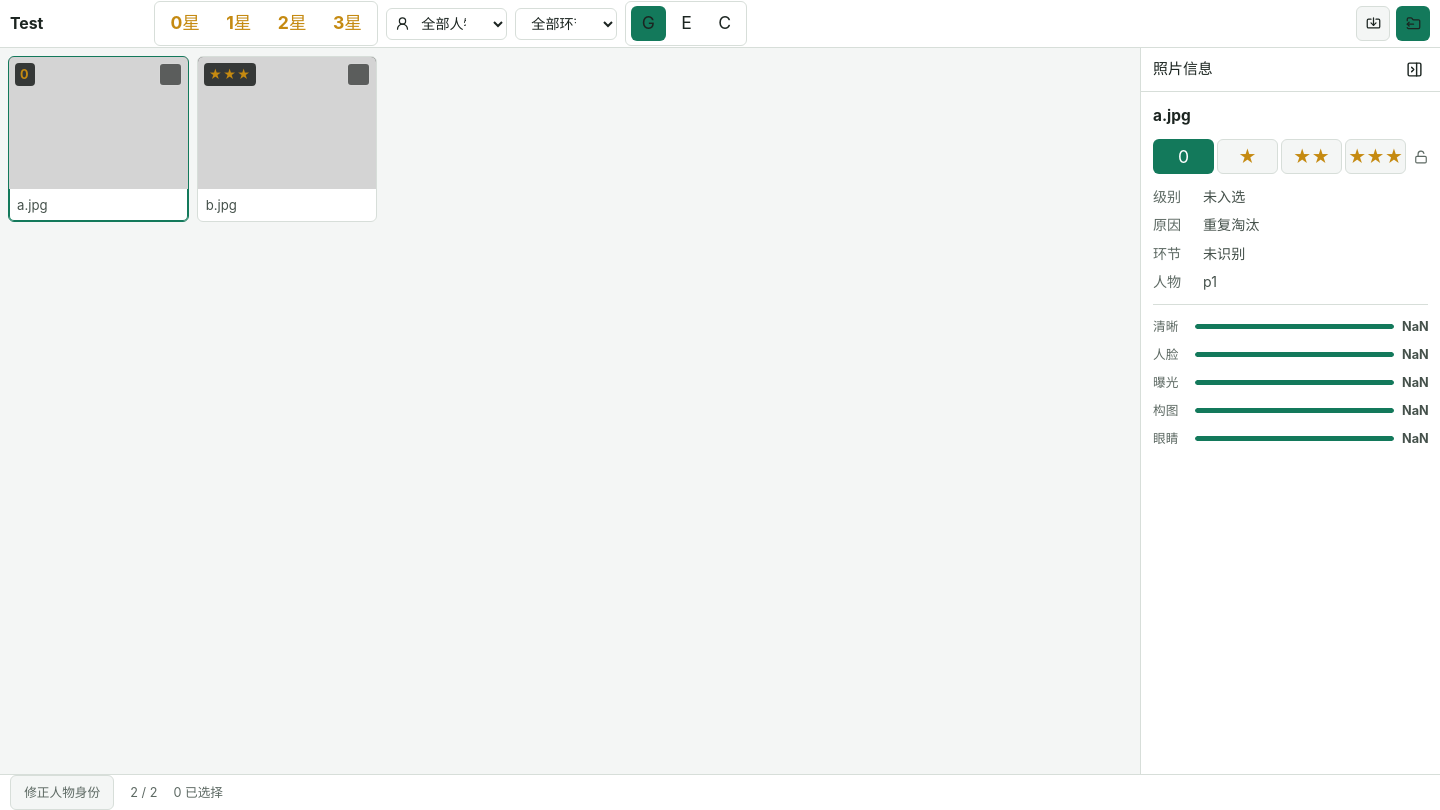
Test: identity corrections › splits selected face refs and keeps an actionable error visible
Click the button "修正人物身份". click: (62, 792)
box: [10, 775, 114, 809]
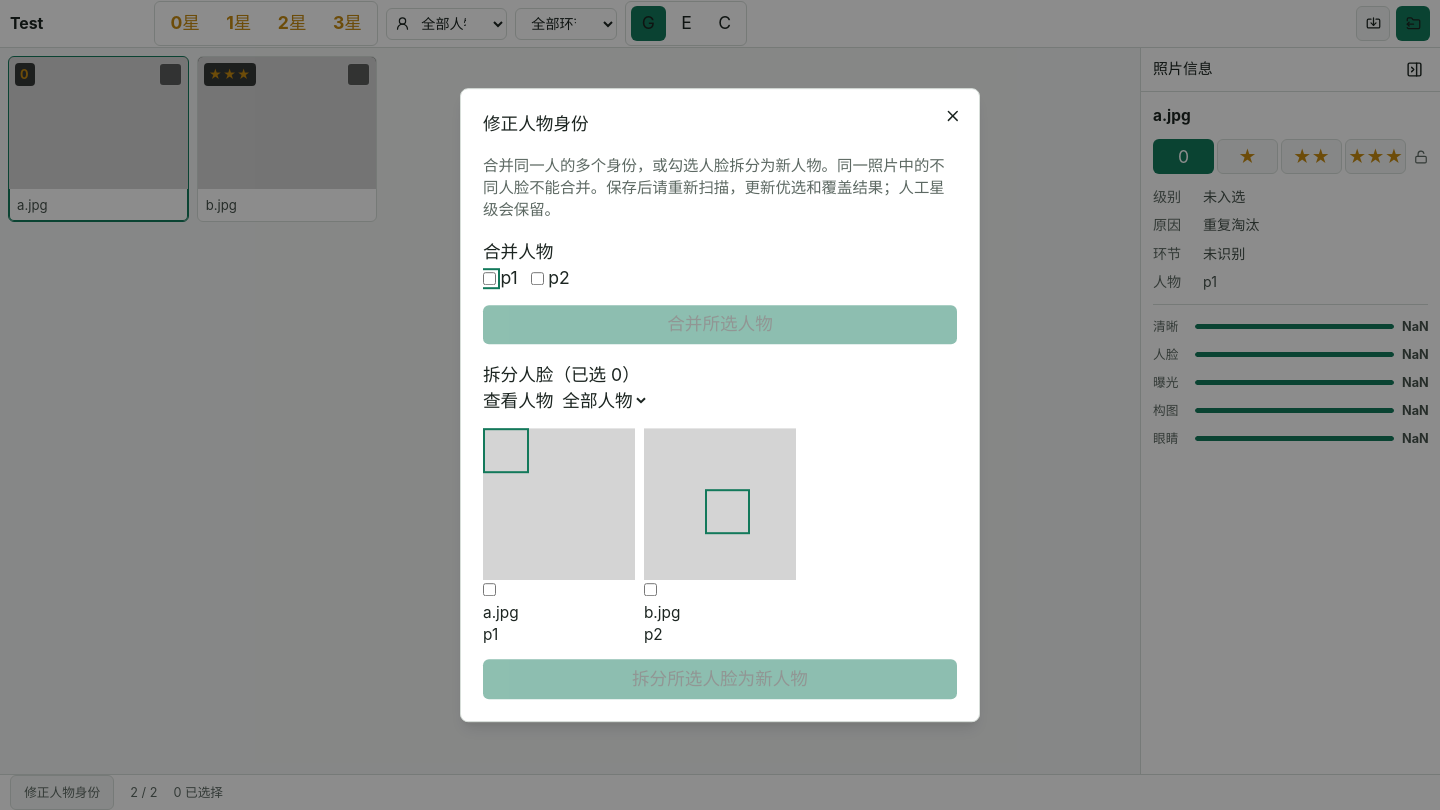
Click the checkbox named "选择人脸 a.jpg · a0". click: (490, 590)
box: [483, 583, 496, 596]
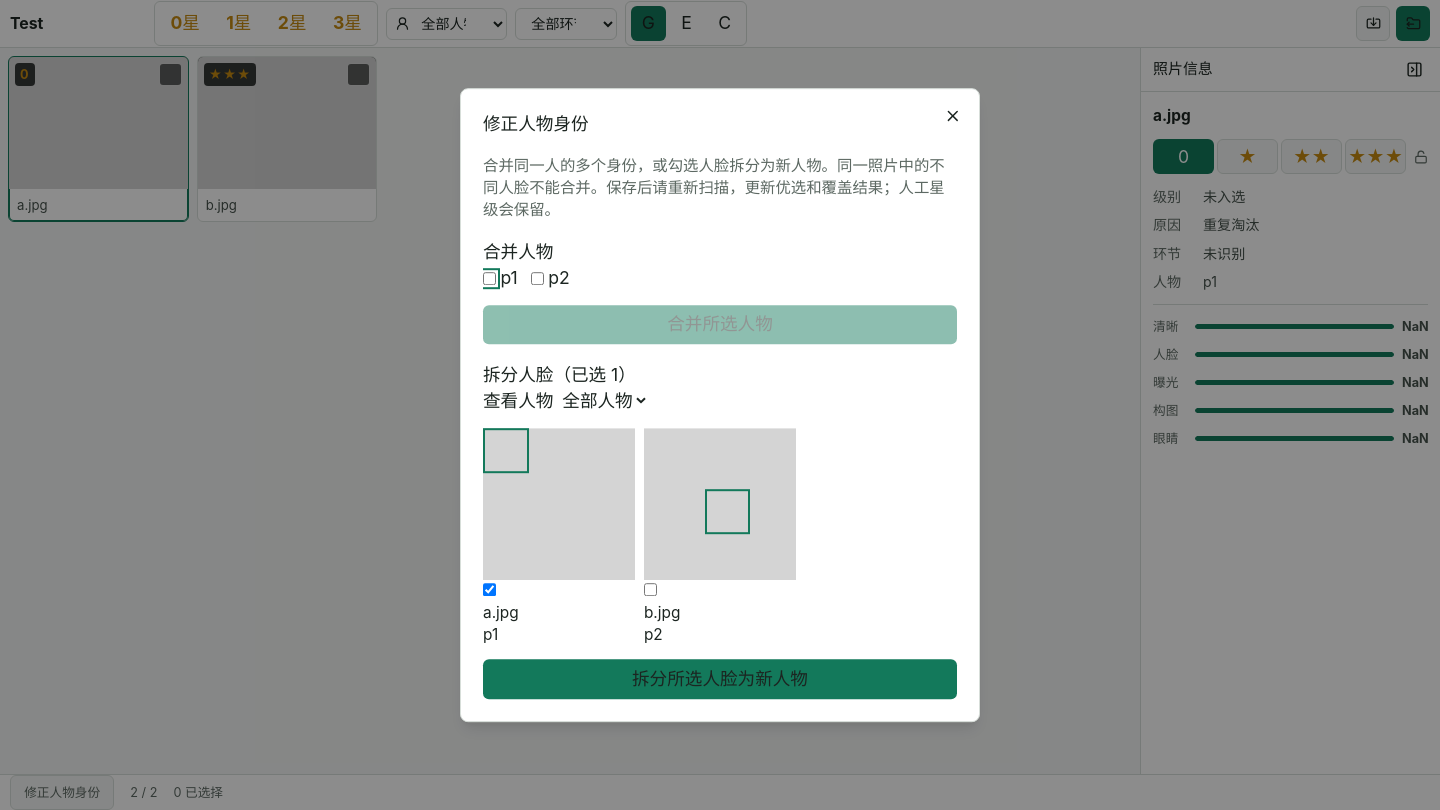
Click the button "拆分所选人脸为新人物". click: (720, 679)
box: [483, 659, 957, 699]
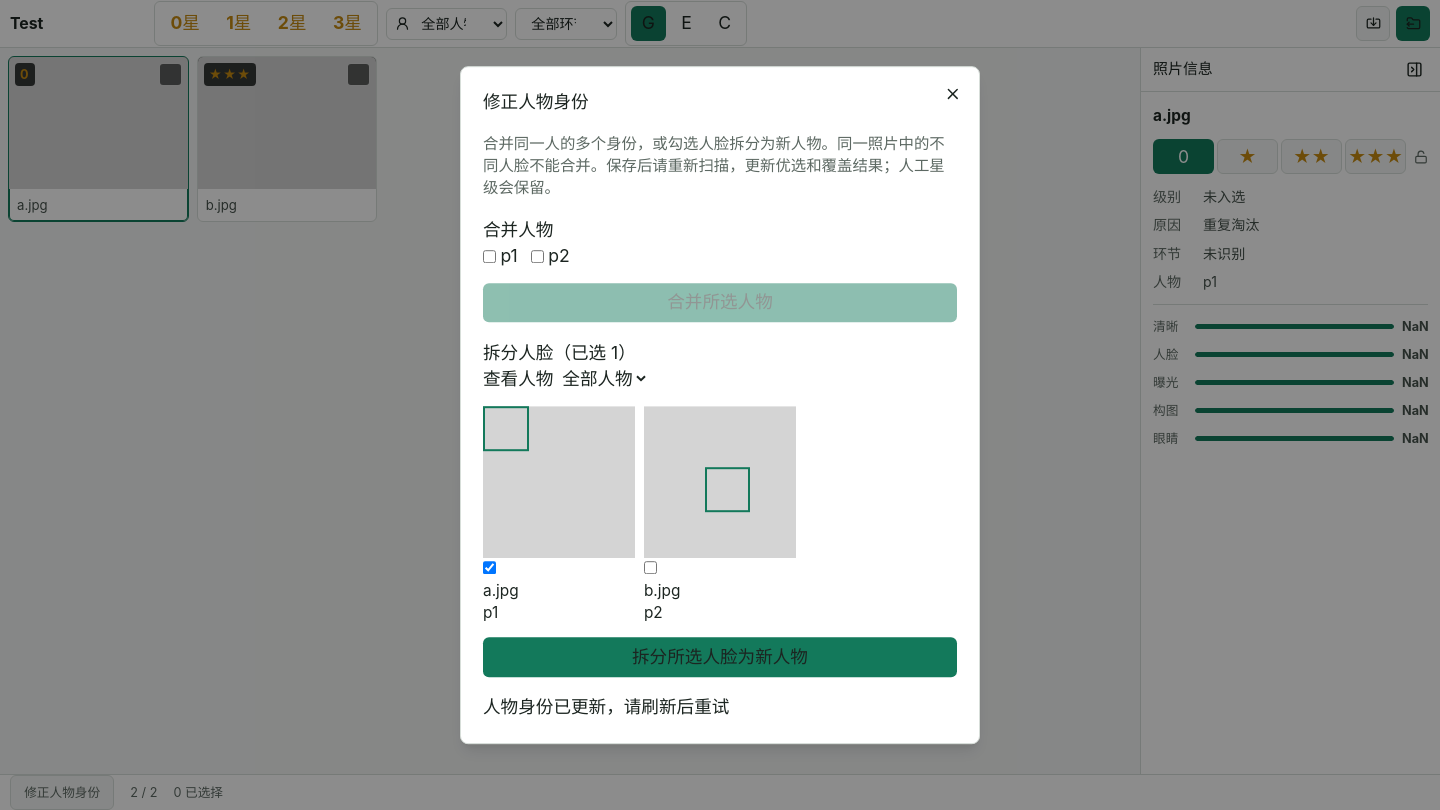
Expected: the message shows "请刷新后重试", [483, 696, 729, 717]
